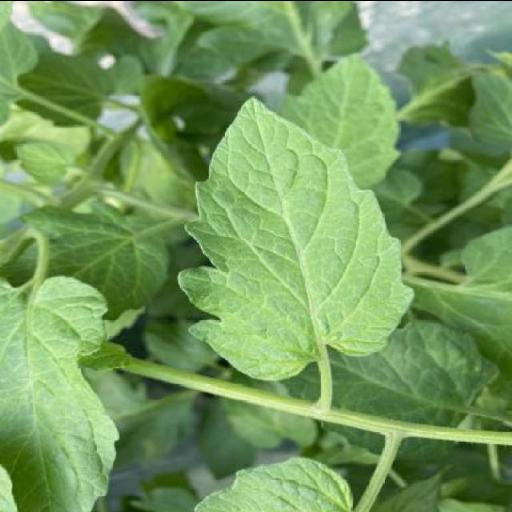Healthy: (178, 96, 414, 380)
